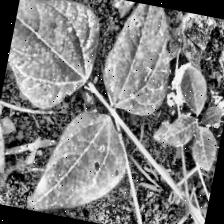ALS: (23, 103, 136, 224), (2, 0, 112, 112), (93, 0, 176, 121)
